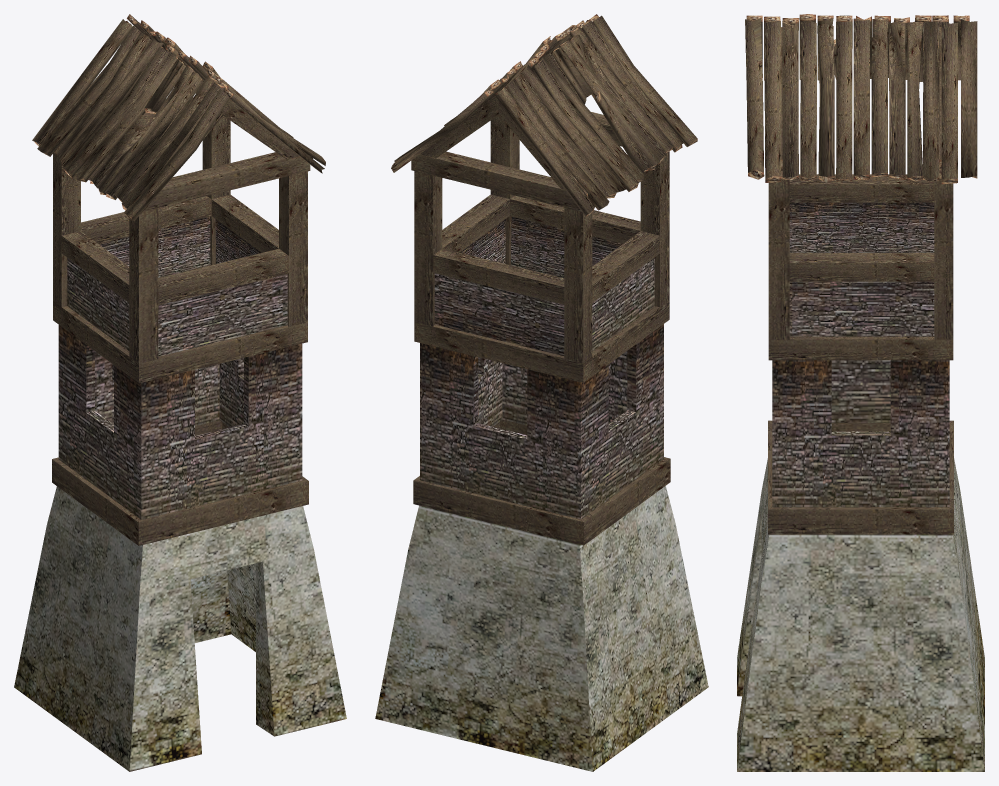
File: celt_outpost.dae
The picture shows the model from 3 angles, left to right: view 1: azimuth 30°, elevation 25°; view 2: azimuth 150°, elevation 25°; view 3: azimuth 270°, elevation 25°; orthographic projection. The views are drawn at different scales.
Parts seen in each view (by area): view 1: outpost_1; view 2: outpost_1; view 3: outpost_1.
Boxes of the visible parts, bbox=[...] form: outpost_1: bbox=[14, 14, 346, 771]; outpost_1: bbox=[375, 14, 708, 771]; outpost_1: bbox=[737, 14, 984, 771].
Size of the model in its own units: 6.75 by 19.34 by 6.22.
